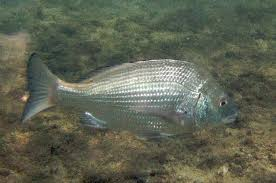kurodai: (24, 47, 247, 139)
